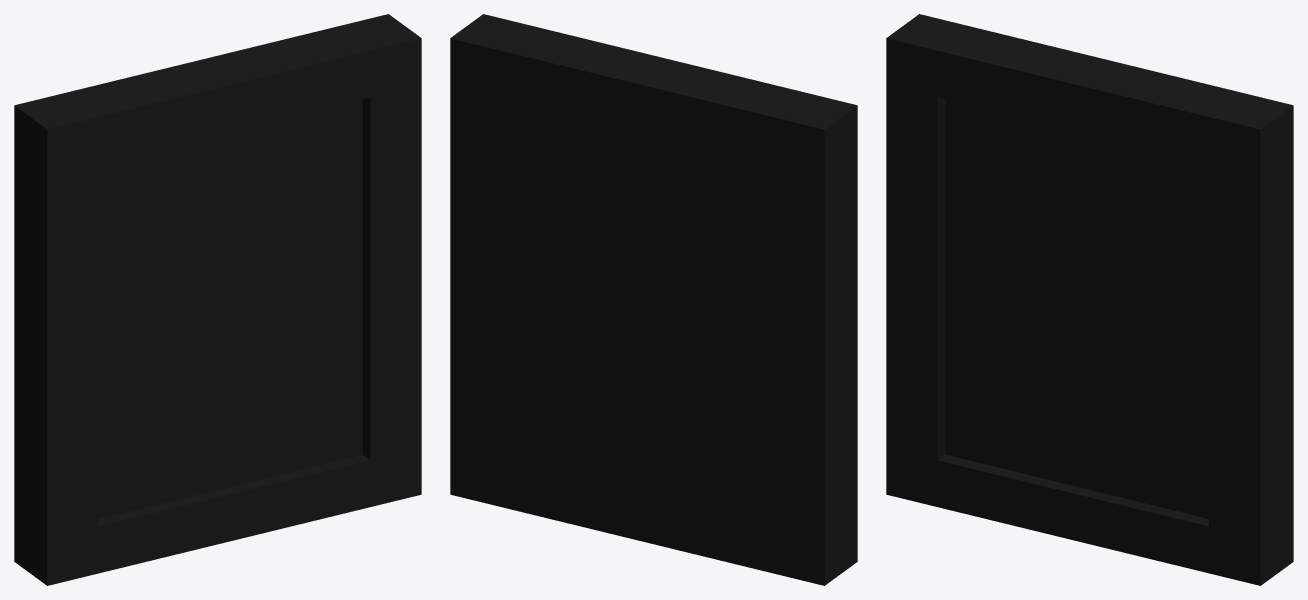
File: Itr_Obj_Frame1_02.FBX
3 renders of one model, left to right at view 1: azimuth 30°, elevation 25°; view 2: azimuth 150°, elevation 25°; view 3: azimuth 330°, elevation 25°, orthographic.
Visible parts, largest first — view 1: Itr_Obj_Frame1_02; view 2: Itr_Obj_Frame1_02; view 3: Itr_Obj_Frame1_02.
Part boxes in pixels (x1,y1,x2,y2): Itr_Obj_Frame1_02: [14, 14, 421, 585]; Itr_Obj_Frame1_02: [450, 14, 857, 585]; Itr_Obj_Frame1_02: [886, 14, 1293, 585].
Bounding box in the file's own units: 15.22 × 17.73 × 2.33.
